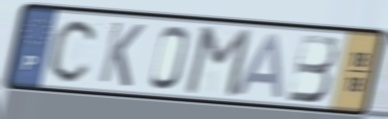0: (148, 24, 192, 91)
A: (231, 31, 286, 101)
B: (284, 32, 339, 105)
C: (46, 16, 101, 85)
K: (96, 19, 147, 90)
M: (181, 24, 255, 100)
